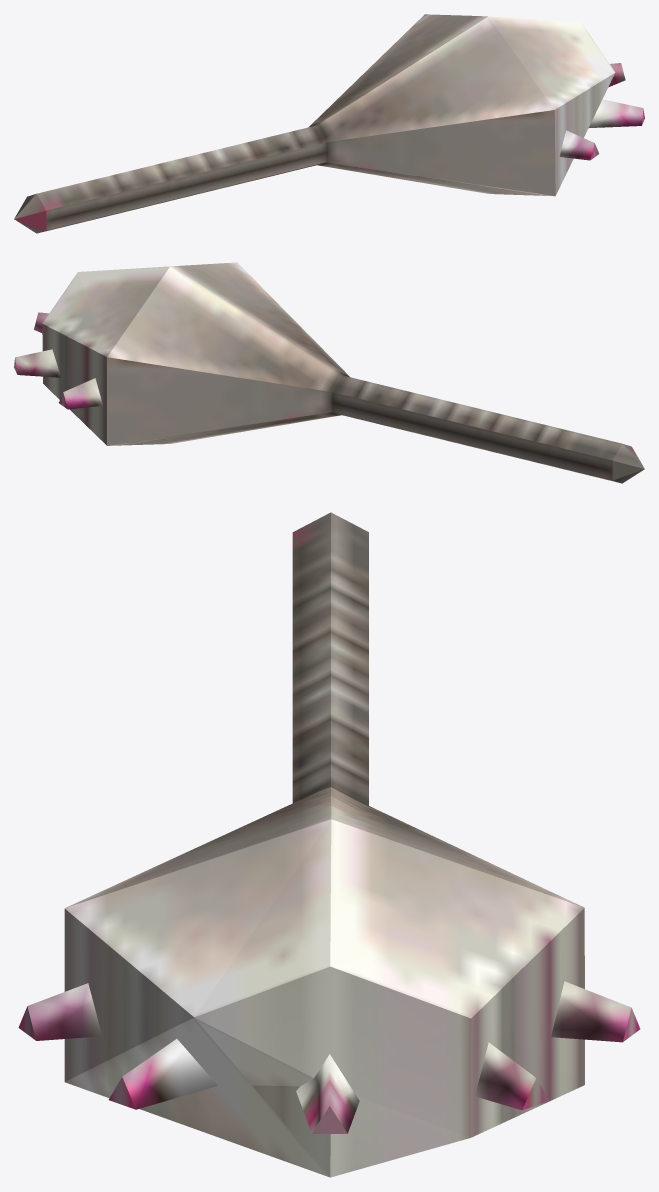
3 views of the same model, one above another, from view 1: azimuth 30°, elevation 25°; view 2: azimuth 150°, elevation 25°; view 3: azimuth 270°, elevation 25° (orthographic). The views are drawn at different scales.
Parts seen in each view (by area): view 1: aw004; view 2: aw004; view 3: aw004.
Boxes of the visible parts, x1,y1,x2,y2 form: aw004: (14,14,644,233); aw004: (14,262,644,483); aw004: (18,512,640,1177).
Size of the model in its own units: 12.77 by 3.57 by 5.67.
Materials: 1 (1 with a texture image).
